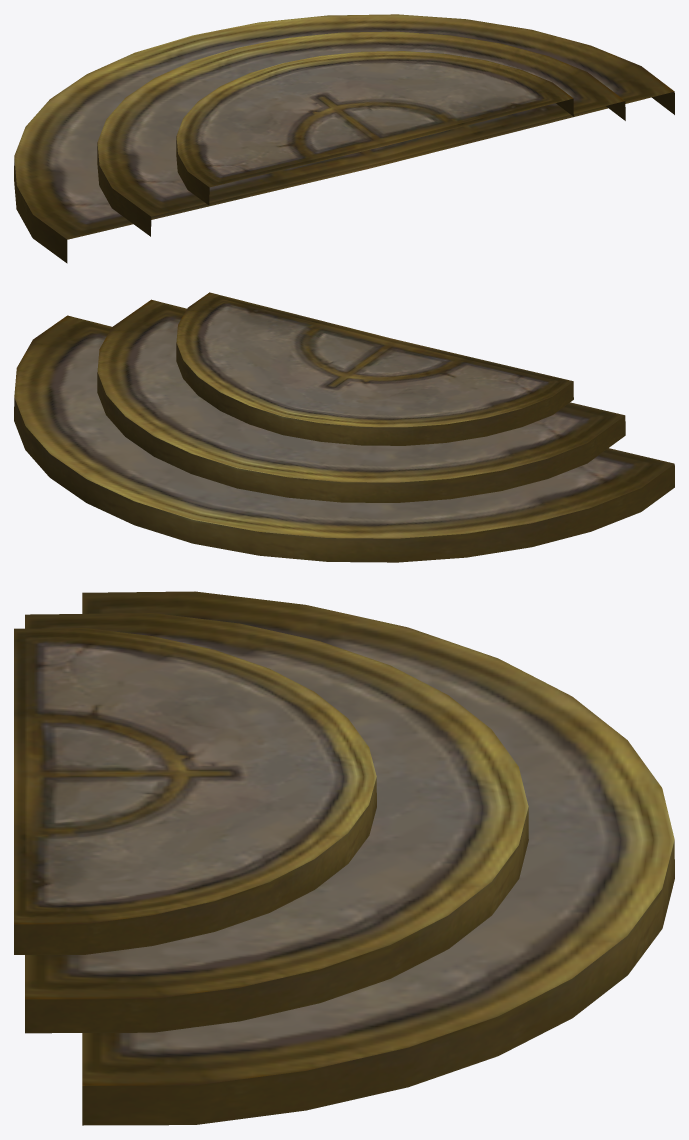
The model's file is blsd_boss_pingtai_1.FBX.
3 views of the same model, one above another, from view 1: azimuth 30°, elevation 25°; view 2: azimuth 150°, elevation 25°; view 3: azimuth 270°, elevation 25° (orthographic). The views are drawn at different scales.
Visible parts, largest first — view 1: blsd_boss_pingtai_1; view 2: blsd_boss_pingtai_1; view 3: blsd_boss_pingtai_1.
Boxes of the visible parts, left/top/right/bottom form: blsd_boss_pingtai_1: left=14, top=14, right=674, bottom=263; blsd_boss_pingtai_1: left=14, top=292, right=674, bottom=562; blsd_boss_pingtai_1: left=14, top=591, right=674, bottom=1125.
Bounding box in the file's own units: 1253 × 122 × 708.
